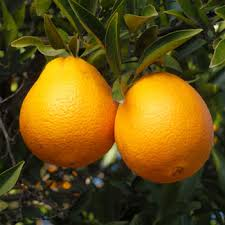orange: (112, 70, 214, 191), (18, 51, 116, 171)
